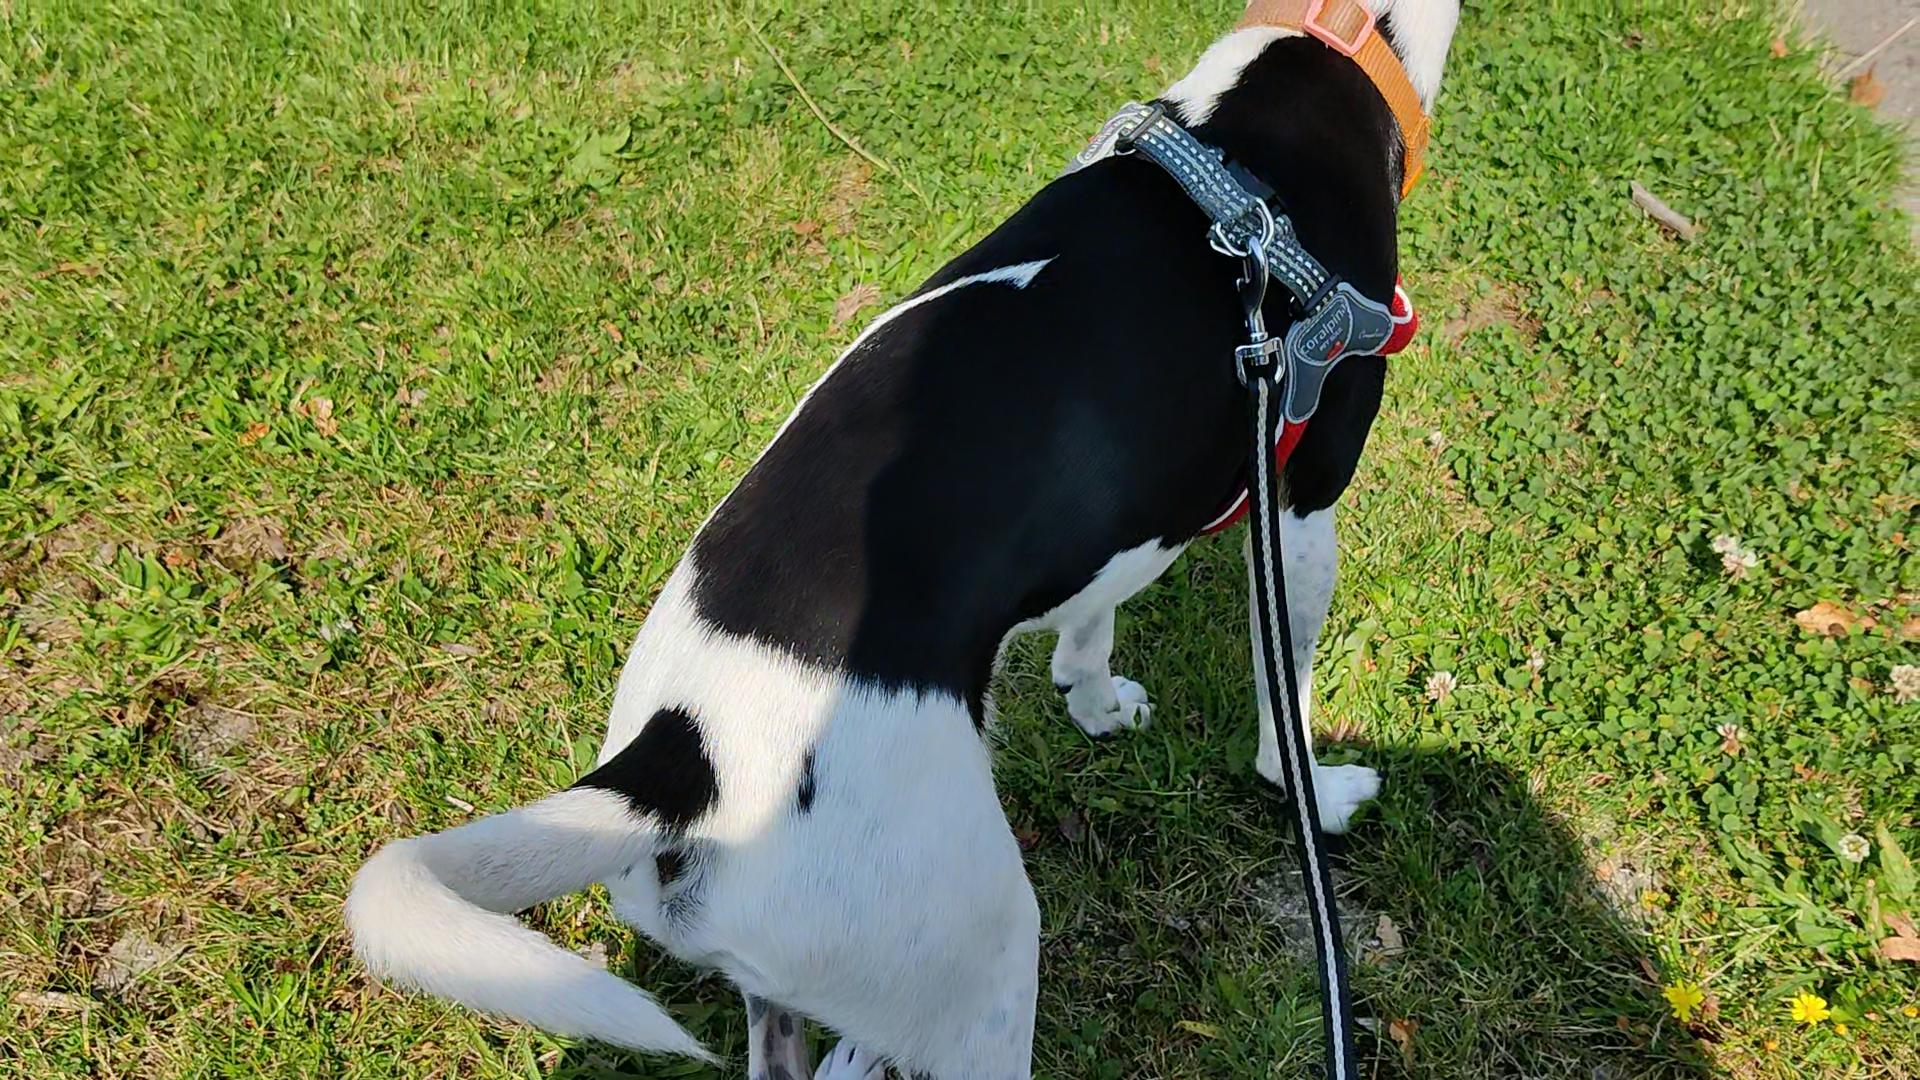Dog: (342, 0, 1465, 1079)
